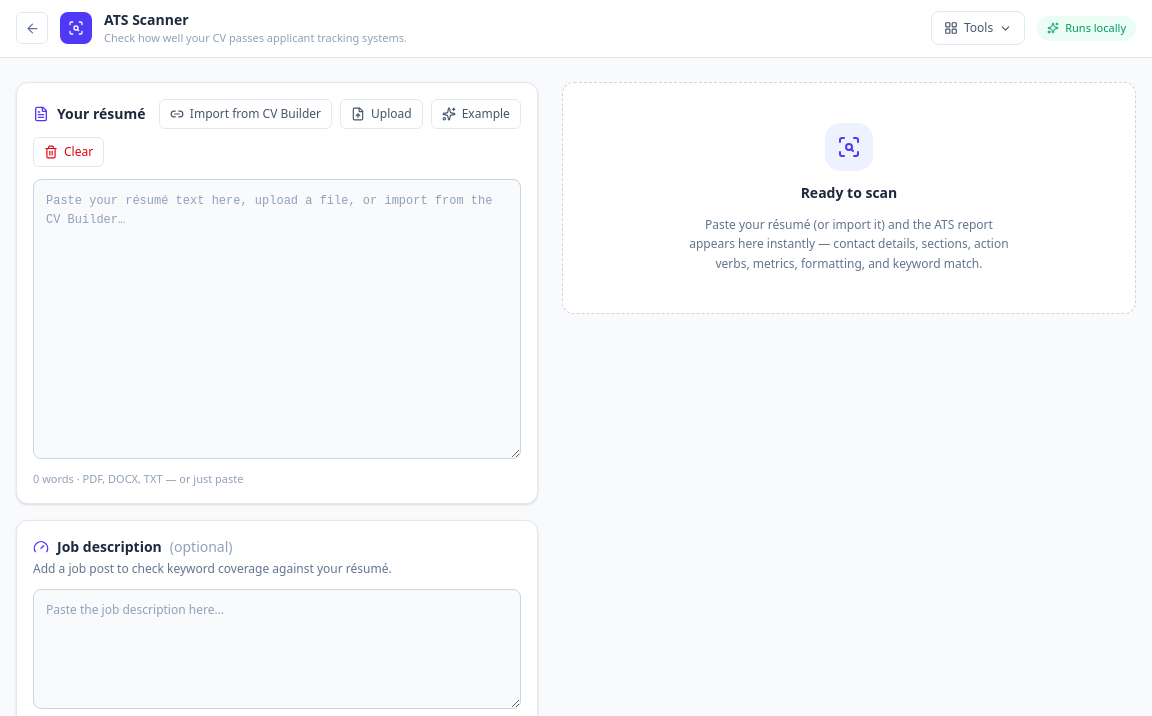
Test: AtsApp › loads the example résumé
This screenshot has width=1152, height=716.
Click the button "Example": (476, 114) [431,98,521,128]
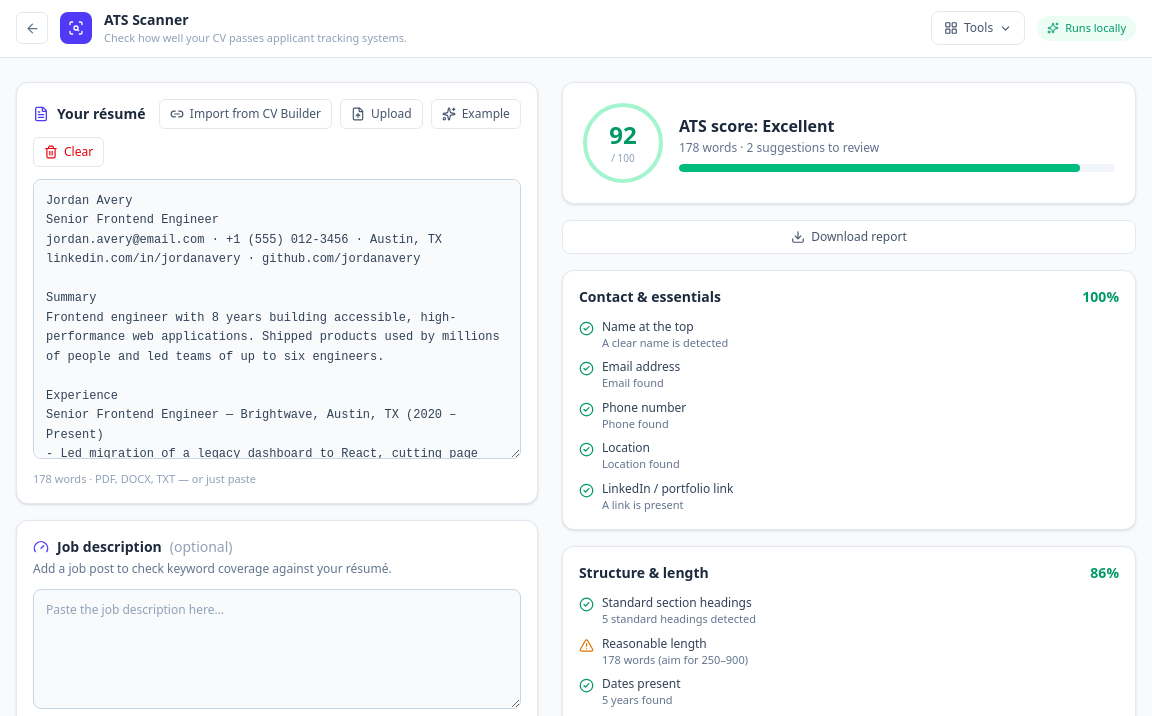
Expected: the heading "ATS score: Excellent" is shown, [679,114,834,136]
